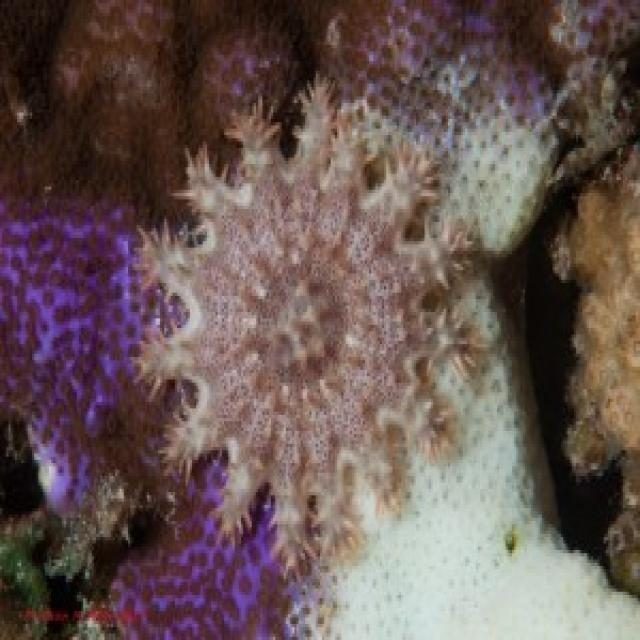Bleached: (291, 427, 640, 640), (338, 75, 546, 250), (433, 284, 530, 423), (31, 434, 60, 497)
Healthy: (137, 87, 496, 569), (1, 202, 291, 640), (1, 1, 183, 196), (562, 152, 640, 603), (306, 4, 640, 75), (183, 2, 306, 103)
